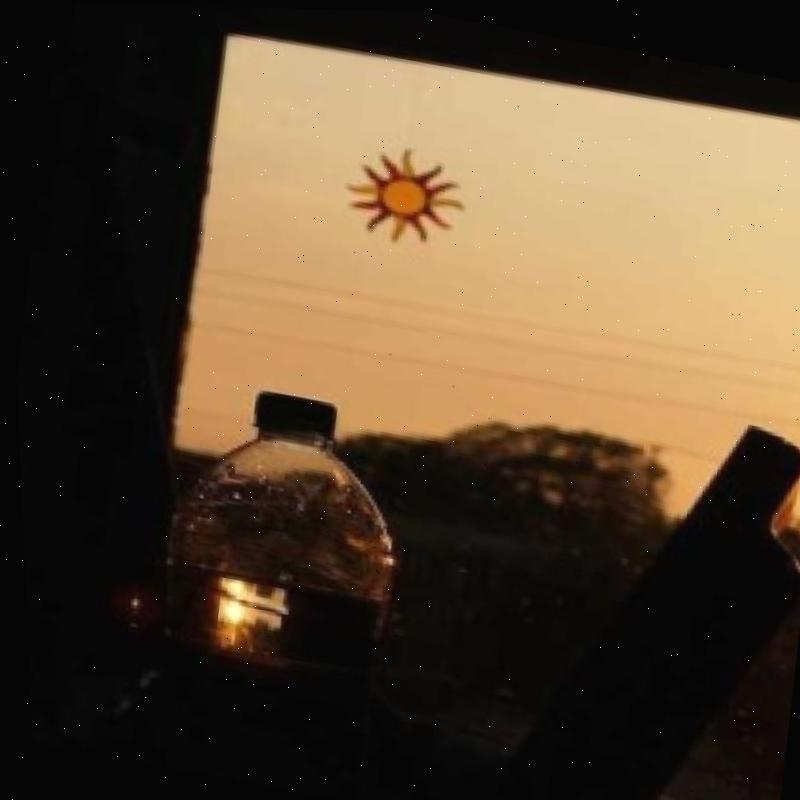botella: (150, 375, 414, 603)
